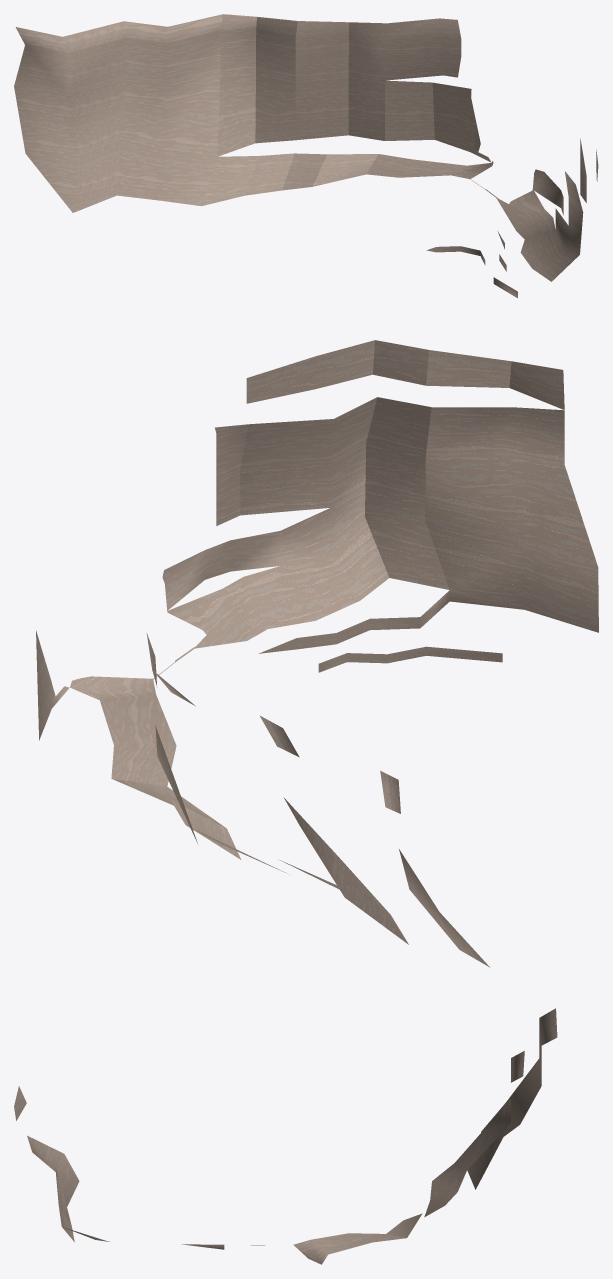
The model's file is kd_connection_town-ground_surface_4_6.glb.
3 views of the same model, one above another, from view 1: azimuth 30°, elevation 25°; view 2: azimuth 150°, elevation 25°; view 3: azimuth 270°, elevation 25° (orthographic). The views are drawn at different scales.
Visible parts, largest first — view 1: kd_connection_town-ground_surface_4_6; view 2: kd_connection_town-ground_surface_4_6; view 3: kd_connection_town-ground_surface_4_6.
Part boxes in pixels (left/top/right/bottom): kd_connection_town-ground_surface_4_6: left=14, top=14, right=598, bottom=298; kd_connection_town-ground_surface_4_6: left=36, top=340, right=598, bottom=967; kd_connection_town-ground_surface_4_6: left=14, top=1008, right=557, bottom=1264.
Size of the model in its own units: 133 by 52.88 by 197.
Materials: 1 (1 with a texture image).
